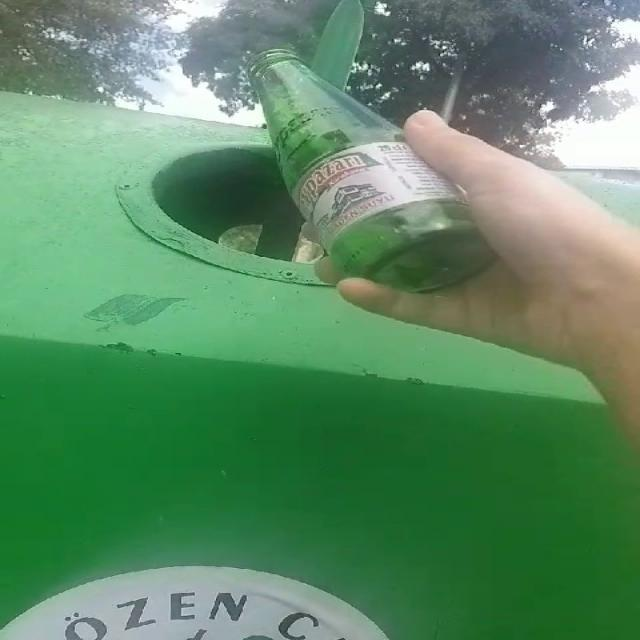Glass: (248, 50, 496, 291)
